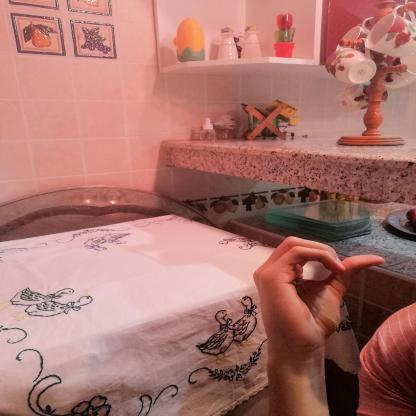WAW: (238, 227, 400, 366)
